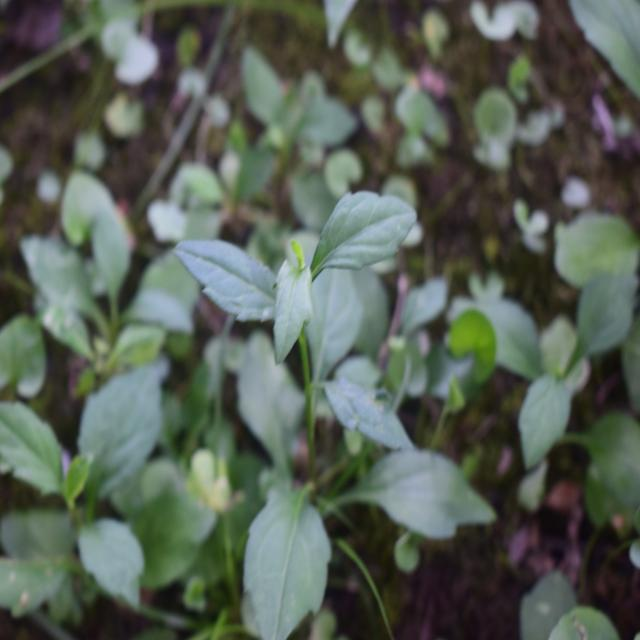Indian aster: (204, 161, 474, 589)
